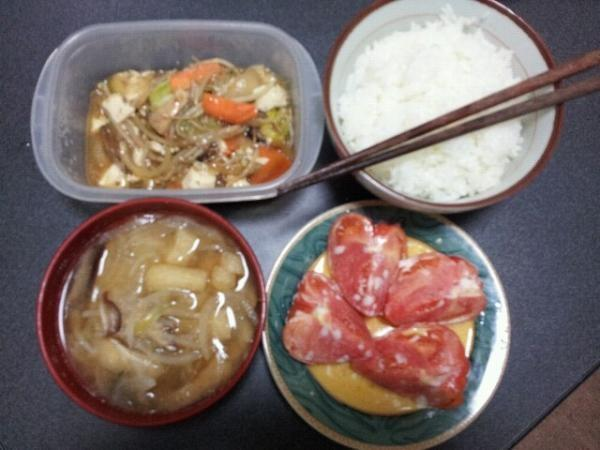rice: (331, 7, 520, 152), (380, 121, 552, 202)
